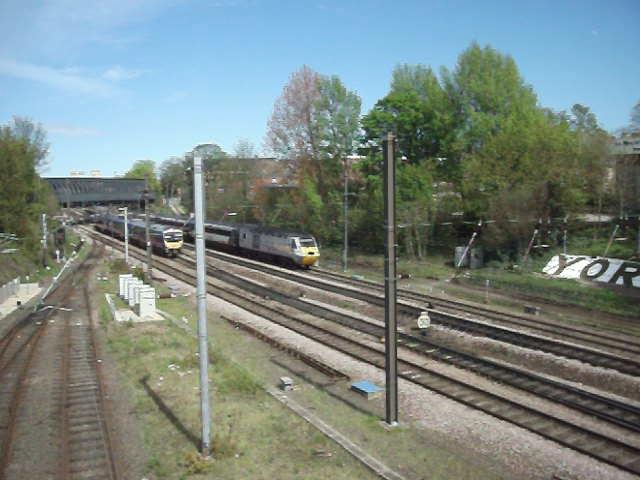Train: (138, 213, 321, 270), (93, 210, 187, 259)
